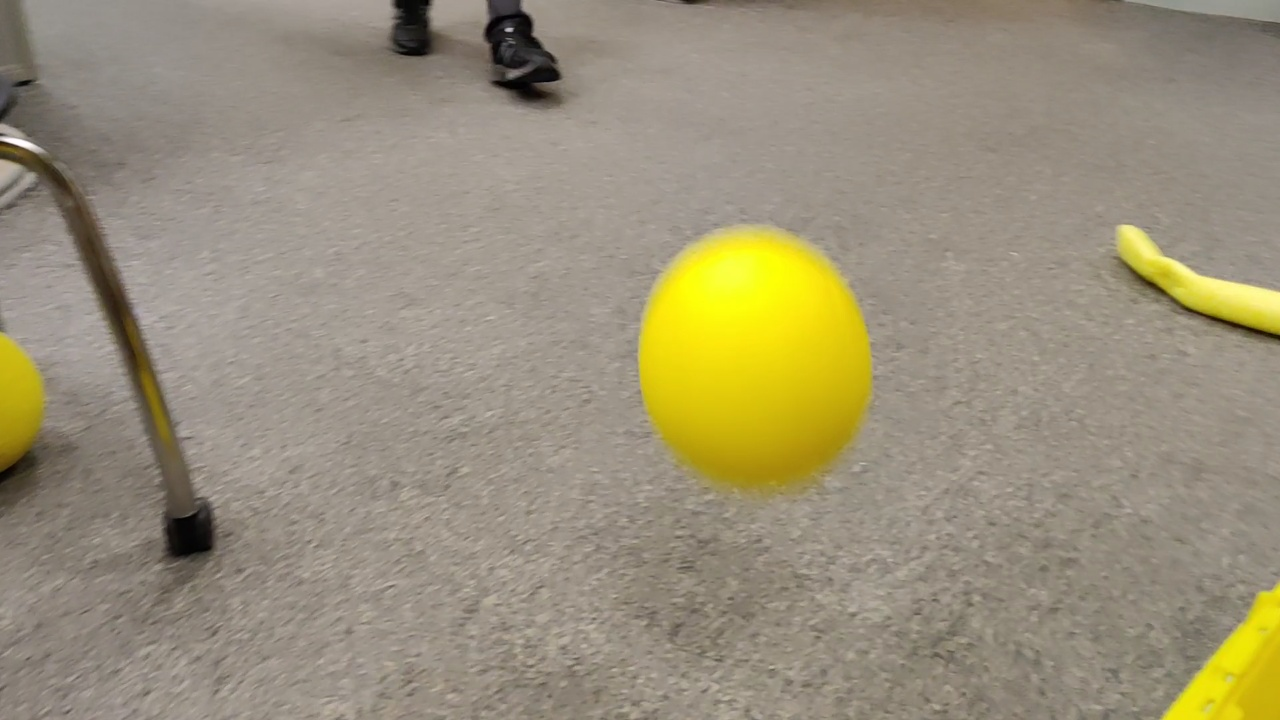Ball: (638, 223, 873, 491)
